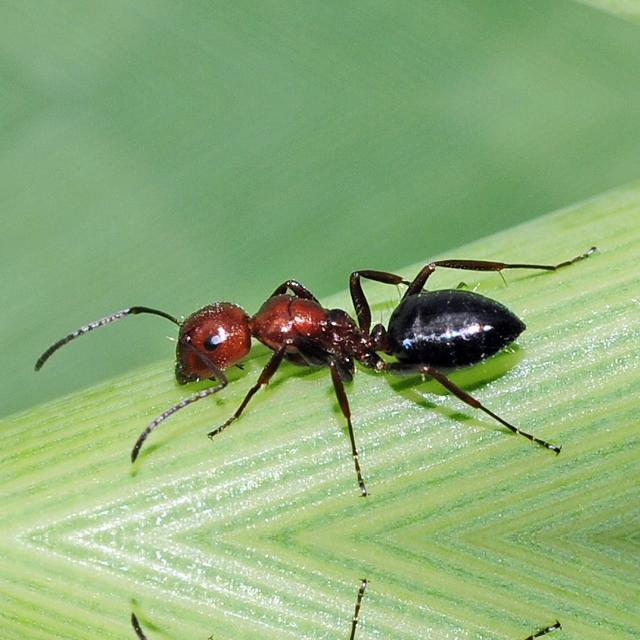Cataglyphis: (135, 260, 542, 416)
